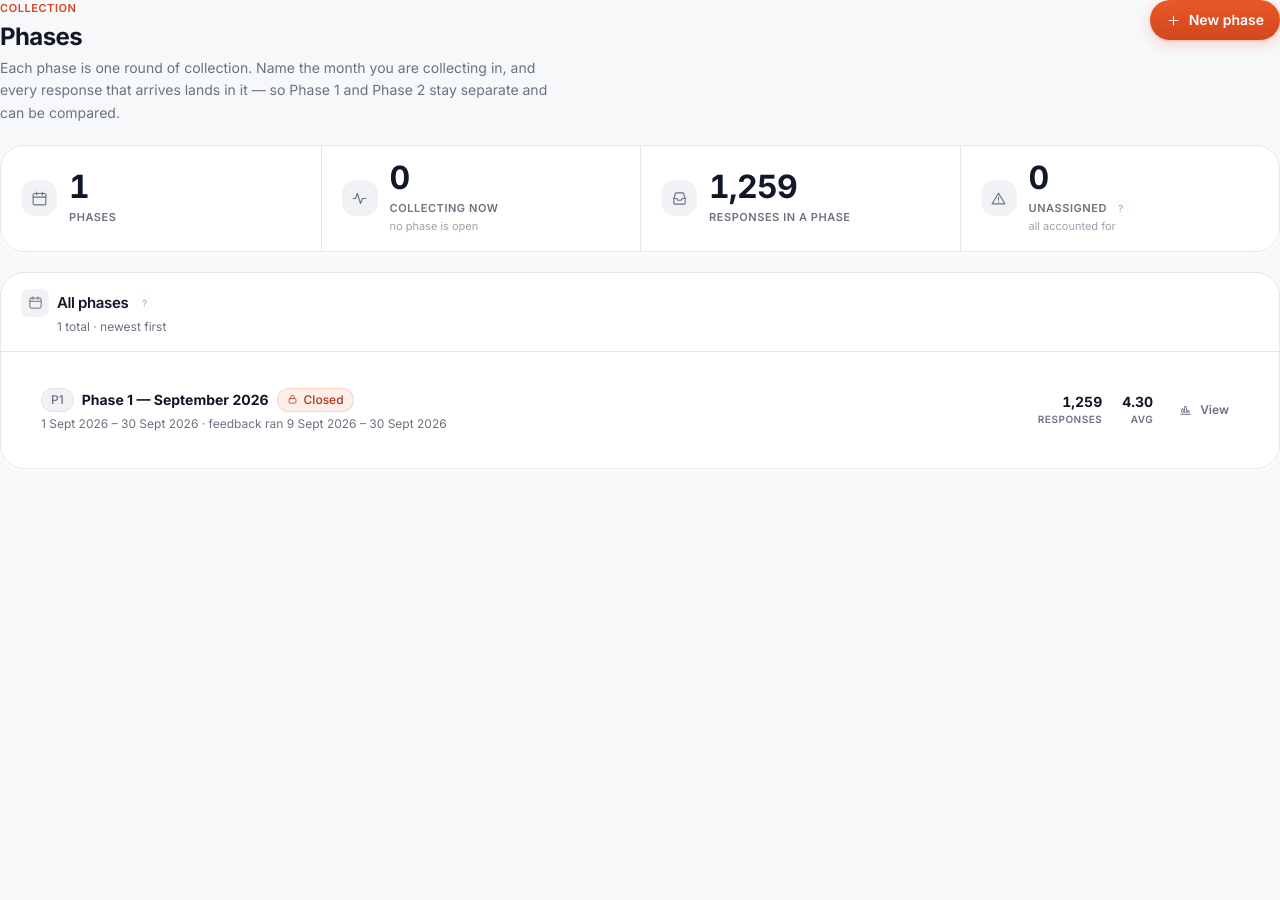
Test: creating a phase › opens a form pre-filled with the CURRENT month and the next number
This screenshot has width=1280, height=900.
Click the button "New phase" at (1215, 20), box 1150,0 -> 1279,40
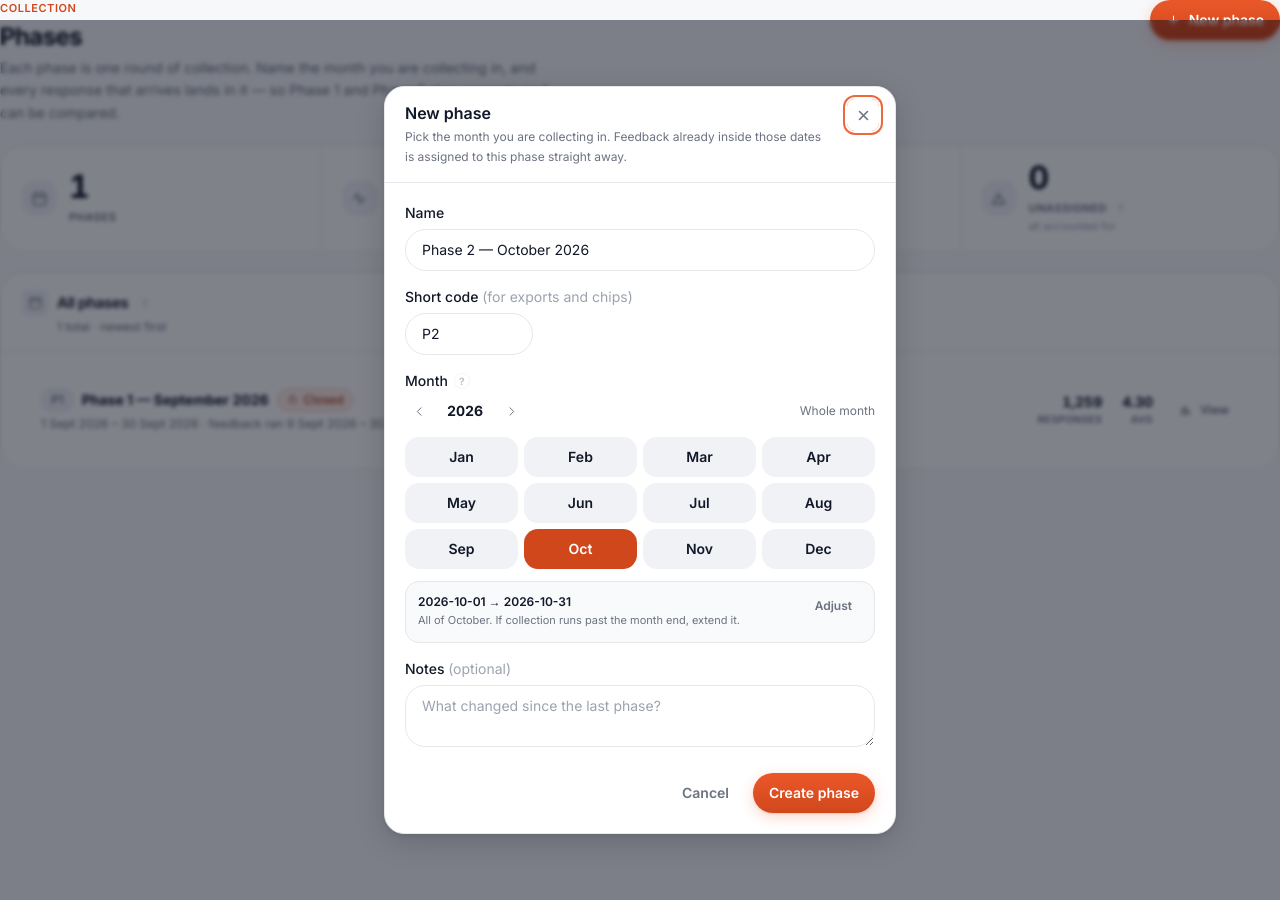
Result: the field showing "P2" is shown at 405,313 -> 533,355
